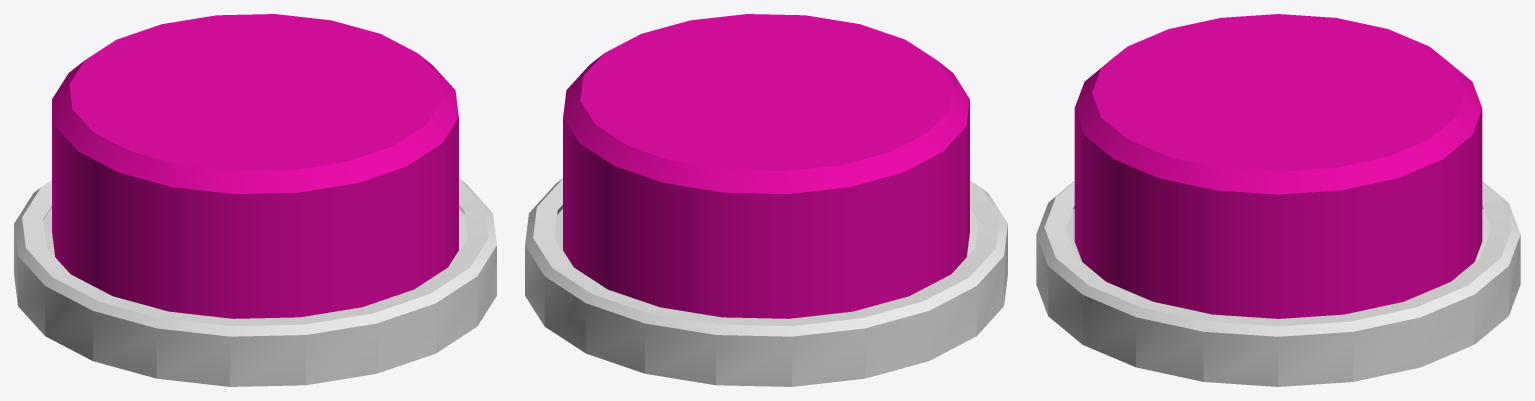
Rendered from button.fbx.
3 renders of one model, left to right at view 1: azimuth 30°, elevation 25°; view 2: azimuth 150°, elevation 25°; view 3: azimuth 270°, elevation 25°, orthographic.
Parts seen in each view (by area): view 1: button; view 2: button; view 3: button.
Boxes of the visible parts, x1,y1,x2,y2 form: button: (14, 14, 496, 386); button: (525, 14, 1007, 386); button: (1036, 14, 1520, 386).
Bounding box in the file's own units: 2.37 × 1.04 × 2.37.
